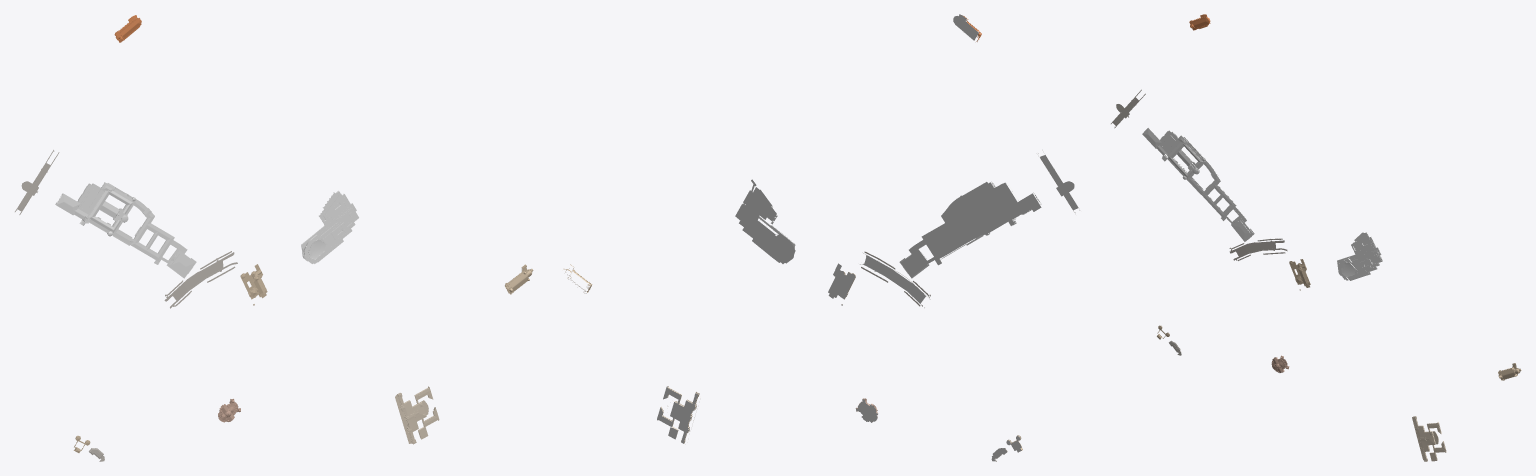
The picture shows the model from 3 angles, left to right: view 1: azimuth 30°, elevation 25°; view 2: azimuth 150°, elevation 25°; view 3: azimuth 330°, elevation 25°; orthographic projection. The views are drawn at different scales.
Size of the model in its own units: 7299 by 6683 by 93.89.
